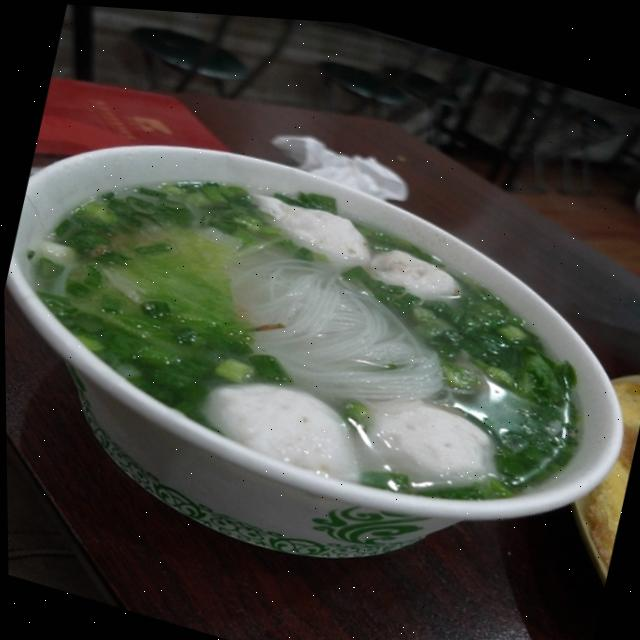熟制海鲜: (1, 68, 640, 611)
